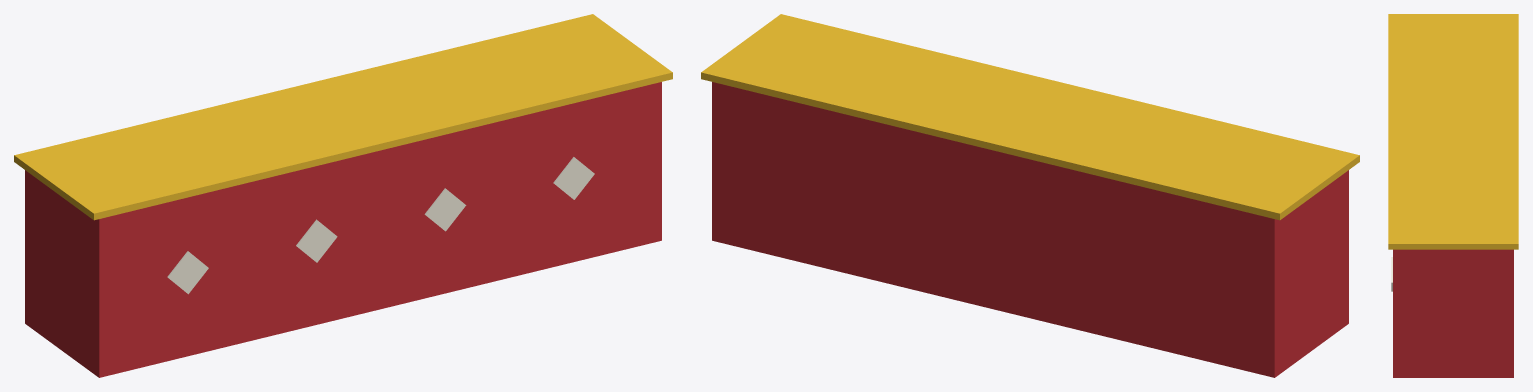
File: costume_counter.glb
3 renders of one model, left to right at view 1: azimuth 30°, elevation 25°; view 2: azimuth 150°, elevation 25°; view 3: azimuth 270°, elevation 25°, orthographic. The views are drawn at different scales.
Parts seen in each view (by area): view 1: body_counter_red, top_counter_top, star_counter_star (×4); view 2: body_counter_red, top_counter_top; view 3: top_counter_top, body_counter_red.
Boxes of the visible parts, x1,y1,x2,y2 form: body_counter_red: [25, 82, 661, 377]; top_counter_top: [14, 14, 672, 220]; star_counter_star (×4): [167, 157, 594, 294]; body_counter_red: [712, 82, 1348, 377]; top_counter_top: [701, 14, 1359, 220]; top_counter_top: [1388, 14, 1518, 249]; body_counter_red: [1393, 249, 1513, 377].
Bounding box in the file's own units: 3.6 × 1 × 0.86.
